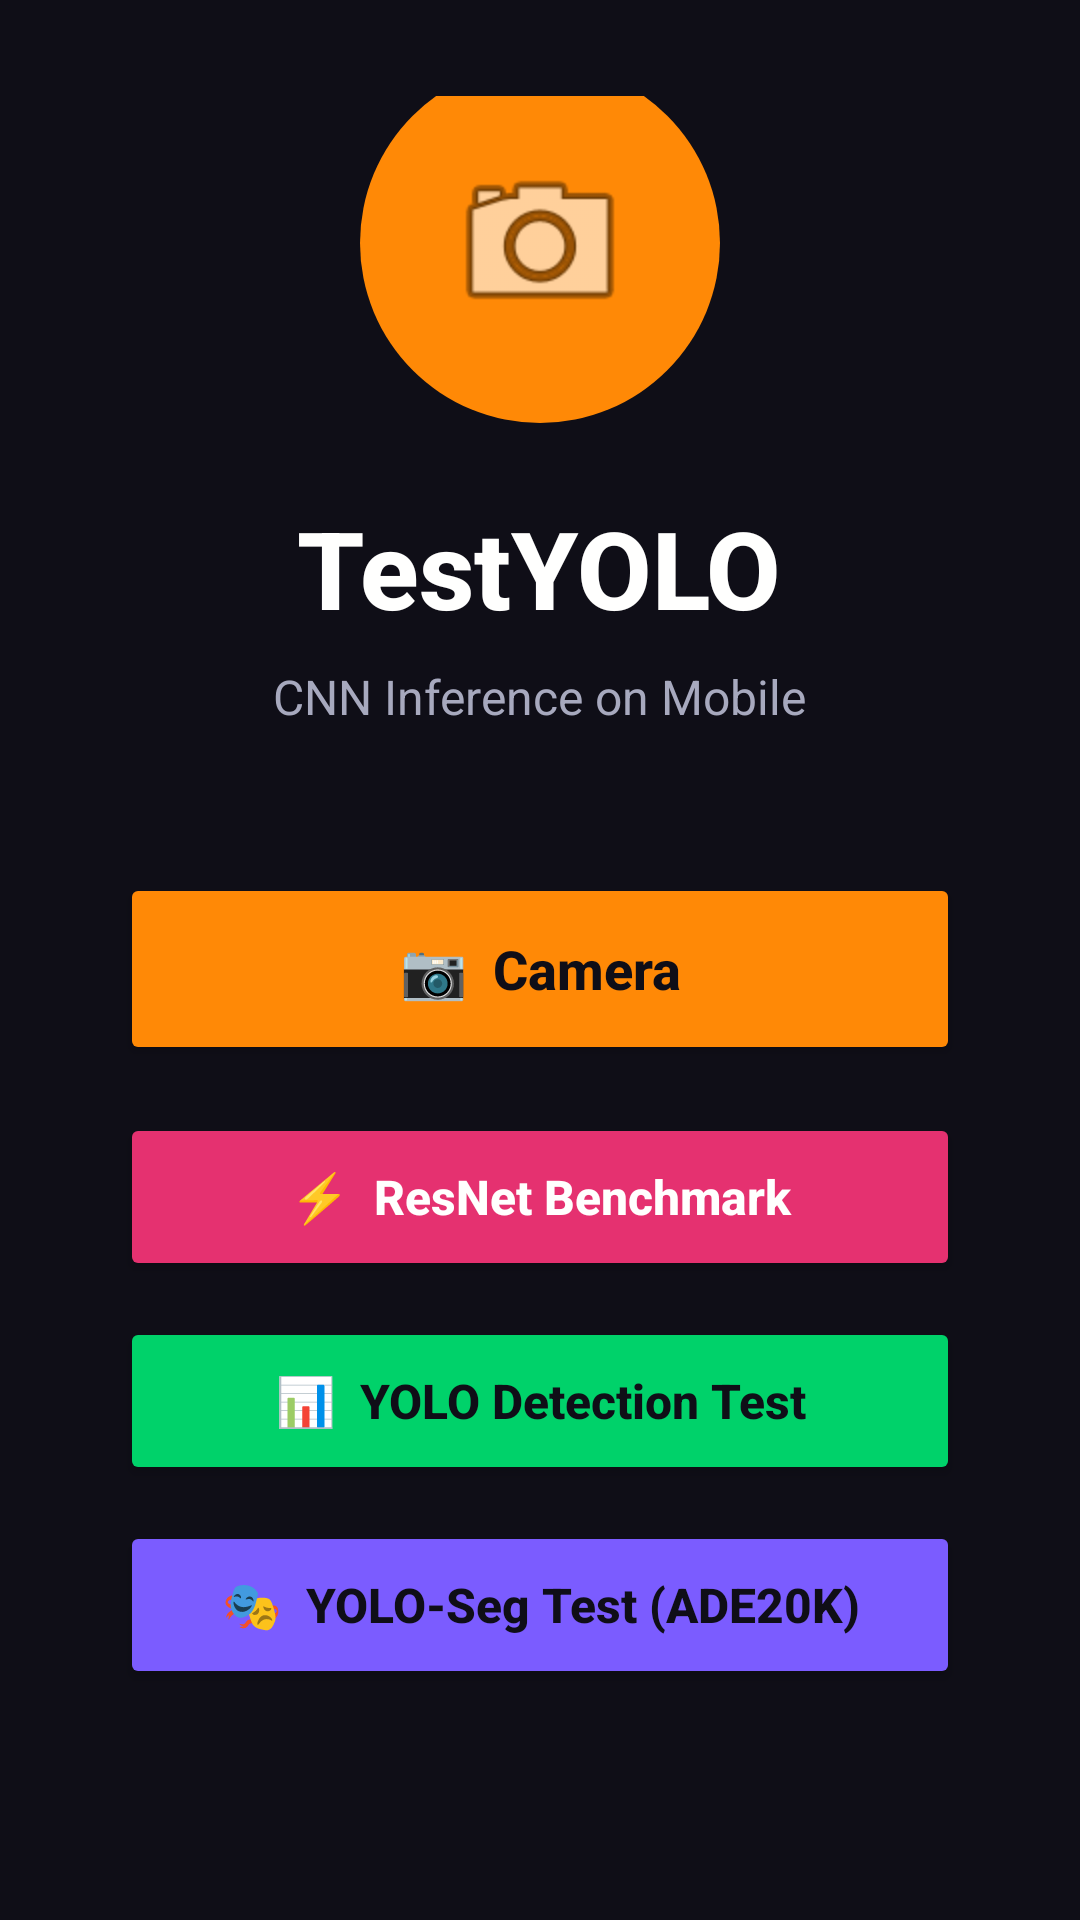

Screen size 1080x1920. Icon name, then its center in pixels as [x,y]:
camera: [540,259]
